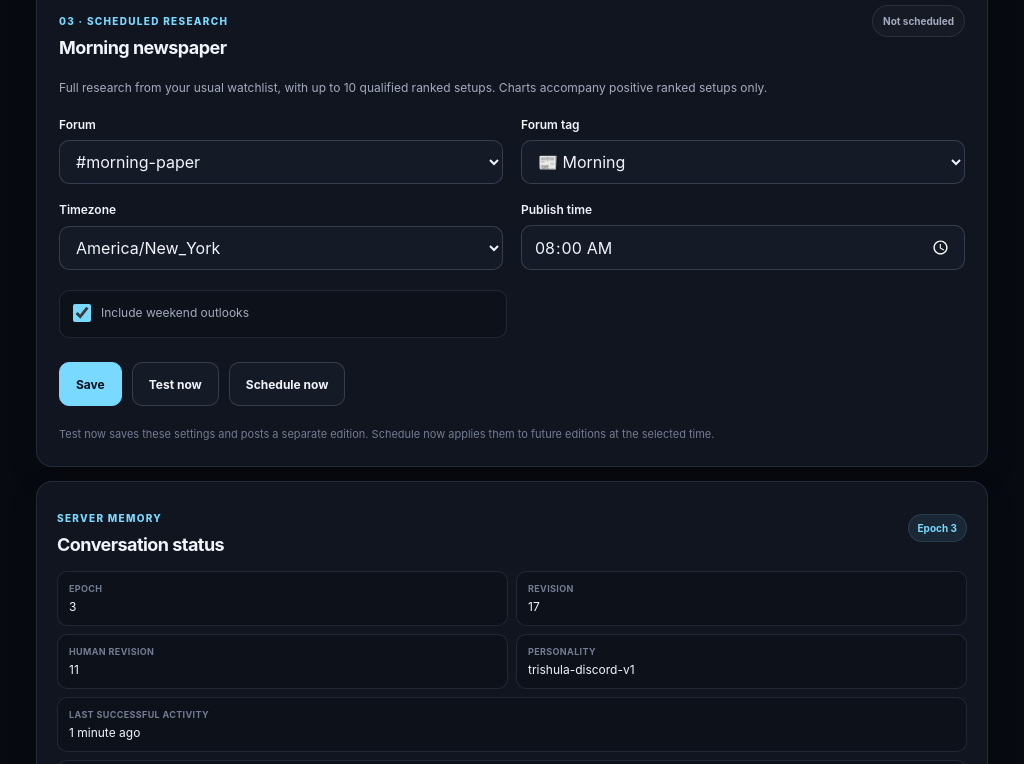
Test case: Discord control surface › shows Scheduled only after scheduling succeeds and re-enables it for changes
This screenshot has width=1024, height=764.
(page scrolled)
Click the button "Schedule now" at (287, 384), box [229,362,346,406]
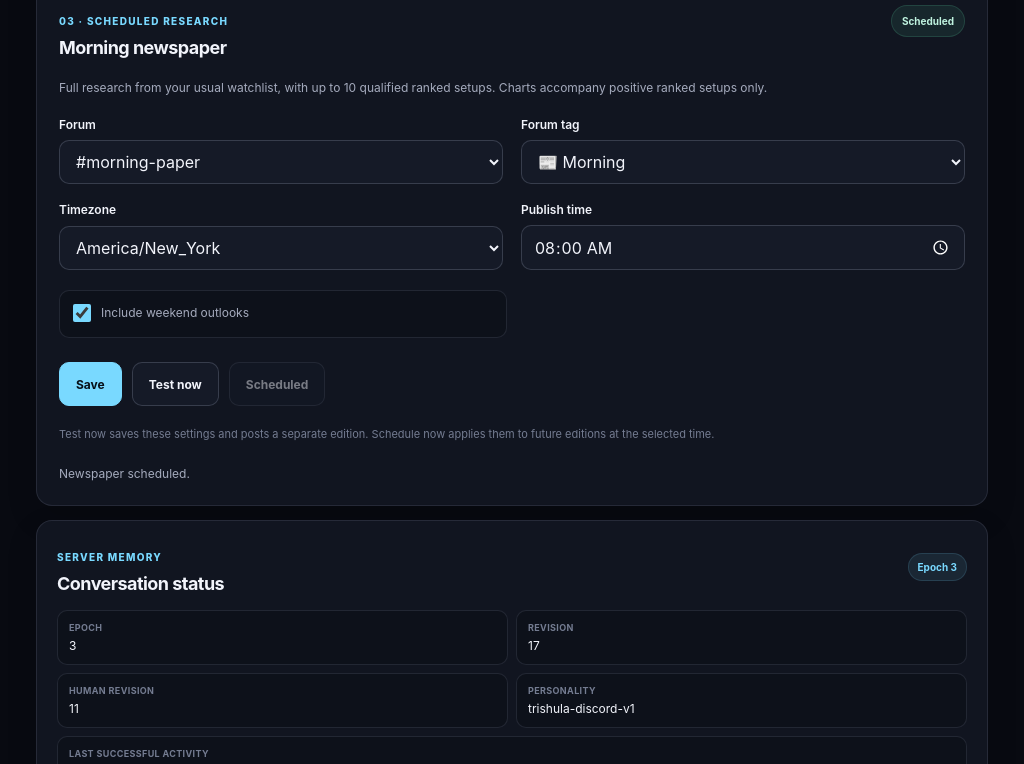
Now the button "Scheduled" is disabled, box [229,362,325,406]
Replace the text in the time field named "Local publish time" with "09:00" at (743, 248), box [521,225,965,270]
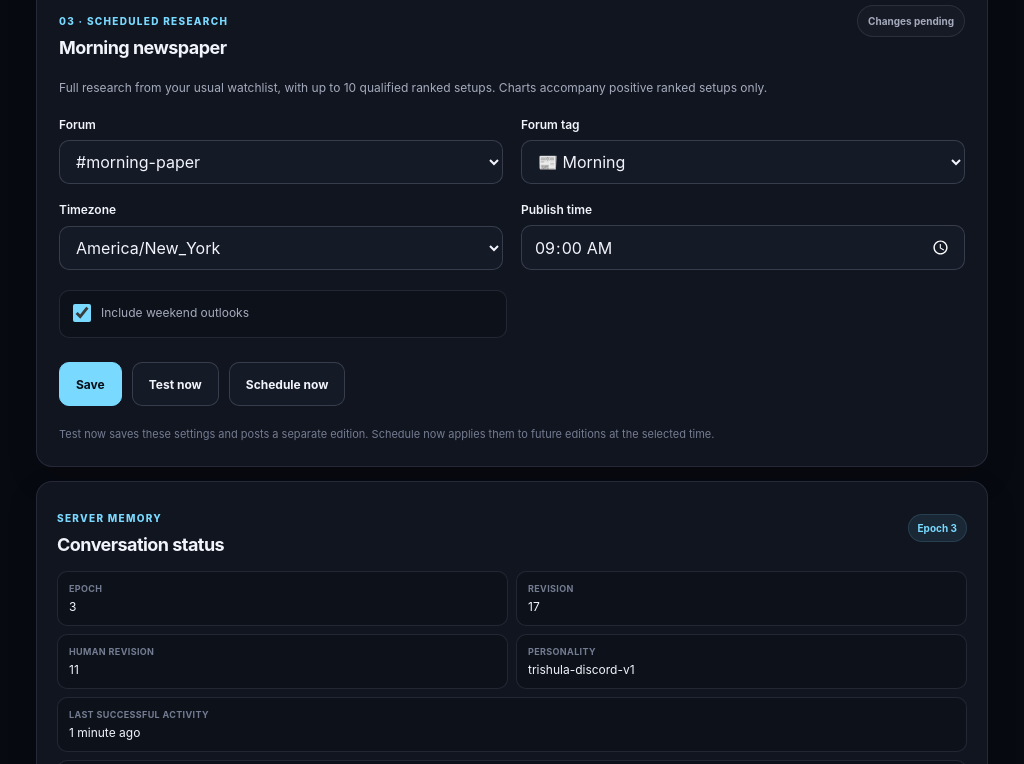
Now the button "Schedule now" is enabled, box [229,362,346,406]
Now the text "Newspaper scheduled." is gone
Replace the text in the time field named "Local publish time" with "08:00" at (743, 248), box [521,225,965,270]
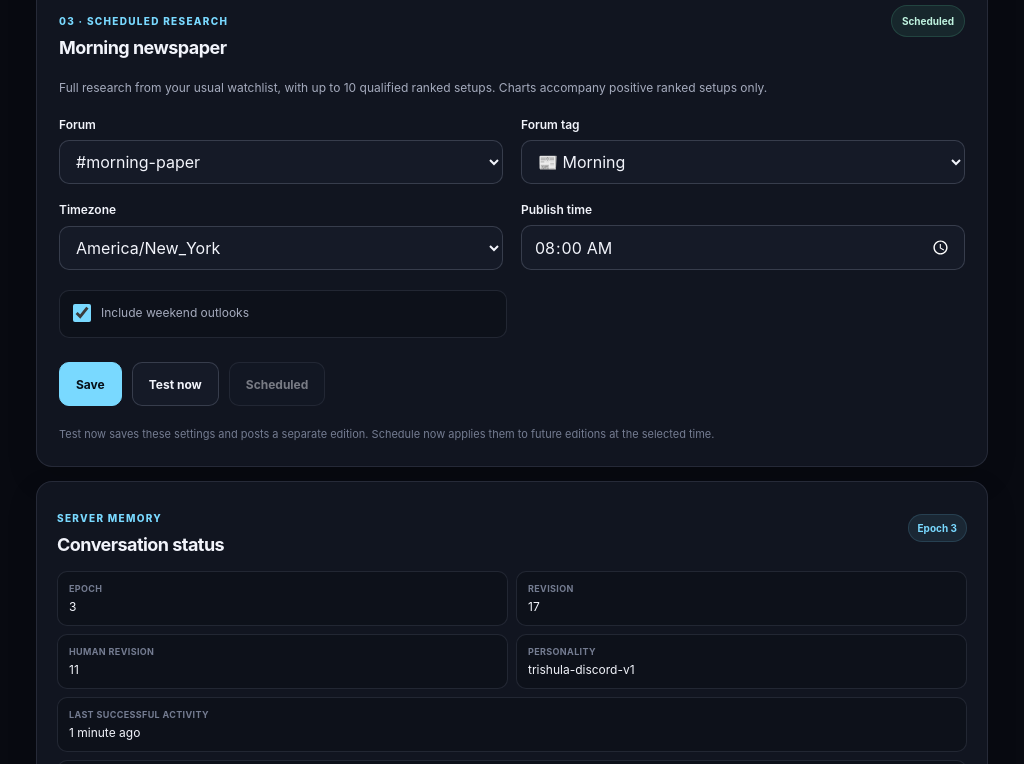
Now the button "Scheduled" is disabled, box [229,362,325,406]
